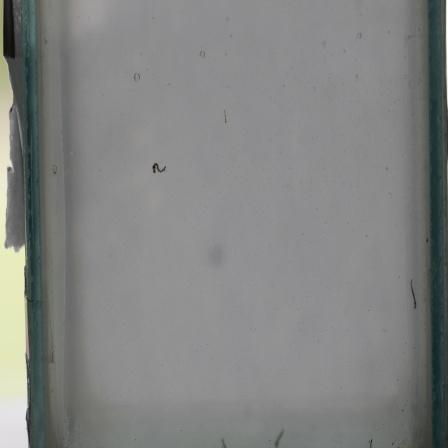Jentik-Nyamuk: (406, 275, 422, 312), (148, 158, 170, 176)
